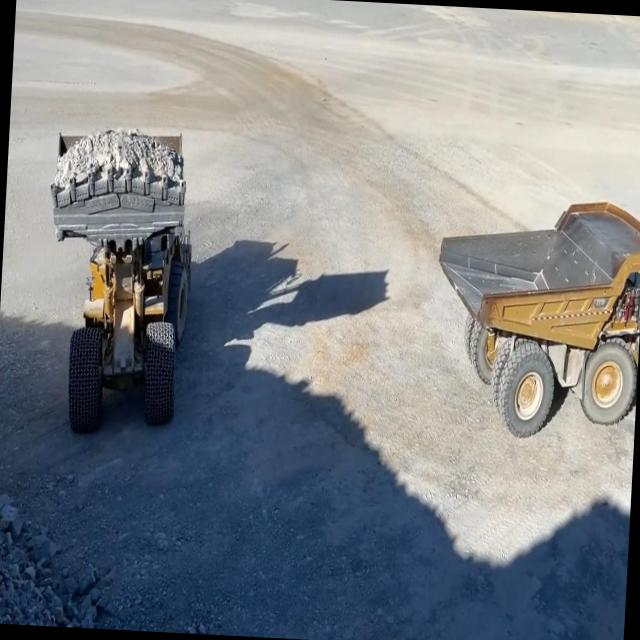Camion volquete: (423, 181, 640, 450)
pala cargadora: (38, 121, 199, 444)
